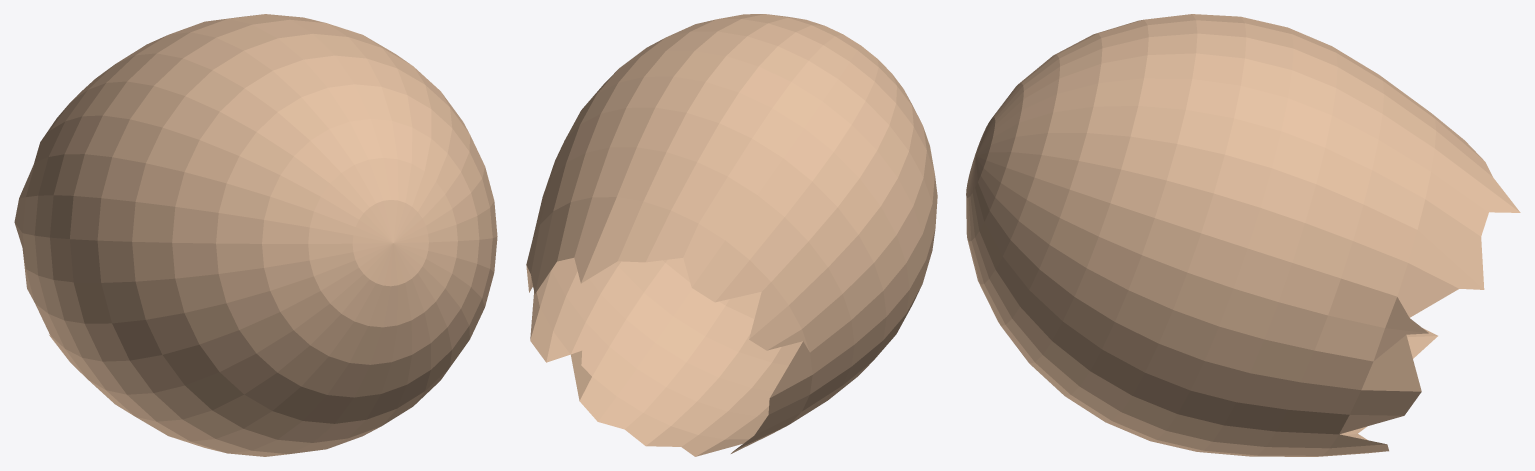
The model's file is eggshell.fbx.
3 views of the same model, side by side, from view 1: azimuth 30°, elevation 25°; view 2: azimuth 150°, elevation 25°; view 3: azimuth 270°, elevation 25° (orthographic). The views are drawn at different scales.
Parts seen in each view (by area): view 1: Sphere; view 2: Sphere; view 3: Sphere.
Part boxes in pixels (x1,y1,x2,y2): Sphere: [14, 14, 497, 456]; Sphere: [526, 14, 937, 456]; Sphere: [966, 14, 1520, 456].
Bounding box in the file's own units: 58 × 59.74 × 73.76.
